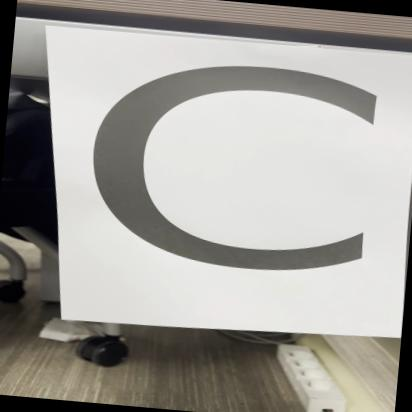seat: (17, 25, 412, 343)
